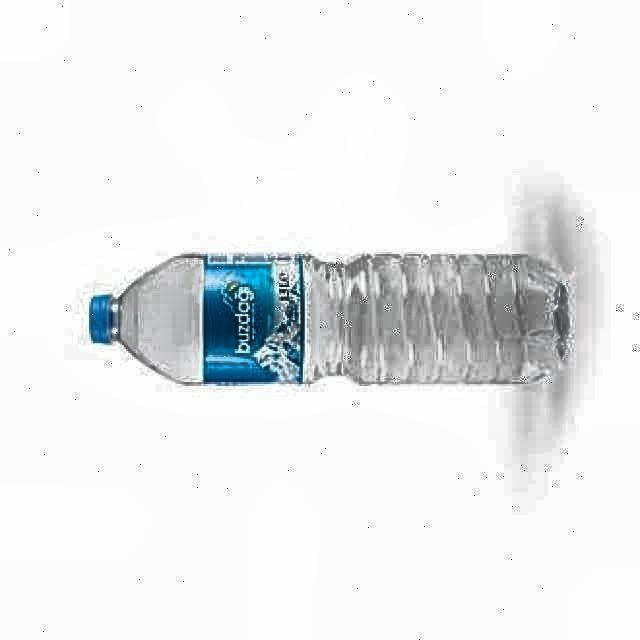plastic: (89, 254, 570, 384)
